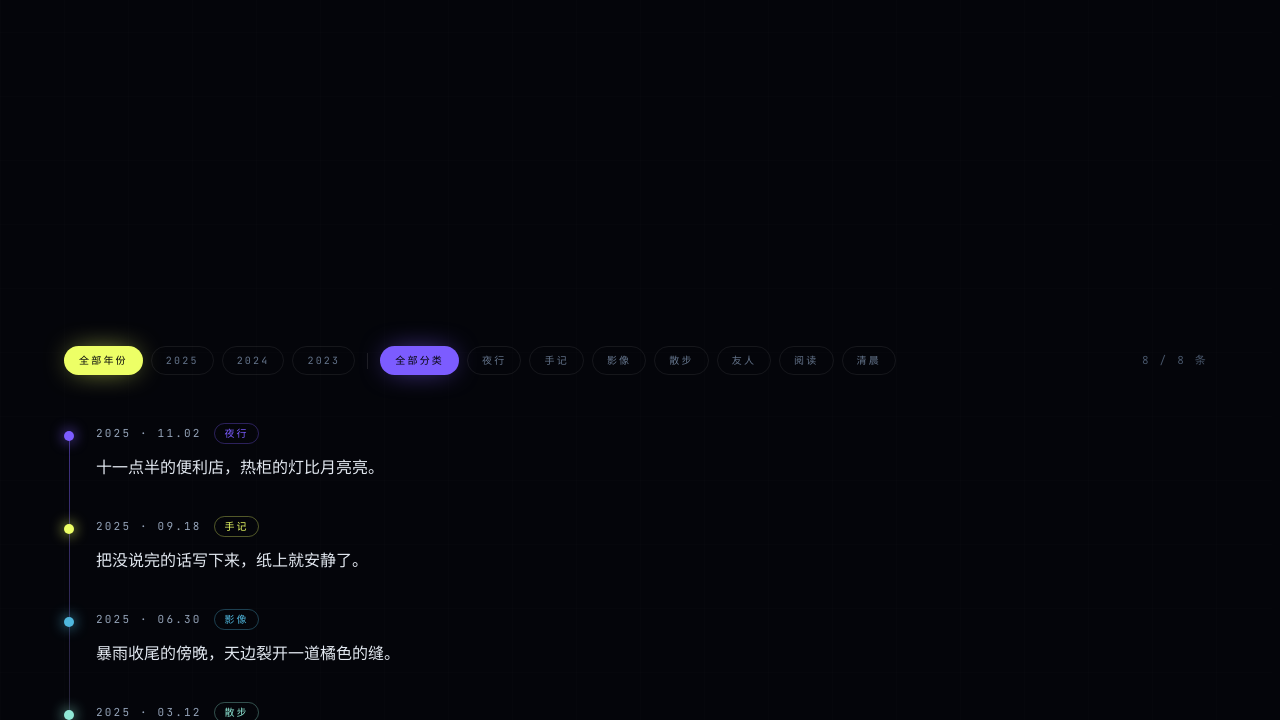
it: 神谕 · 页面 › 年份 / 分类筛选生效，可重置
(page scrolled)
Expected: the text "8 / 8 条" is shown, [1142,352,1208,369]
Click the button "2024" at (253, 361), box [222,346,284,375]
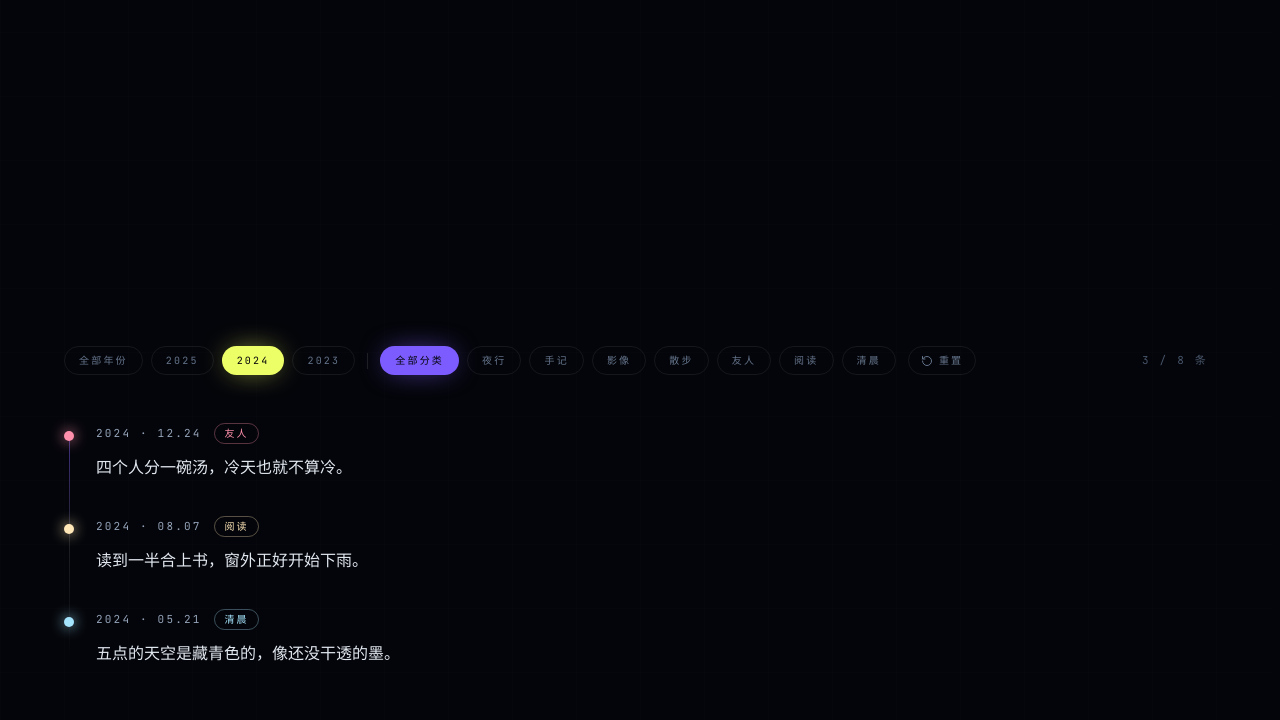
Expected: the text "四个人分一碗汤，冷天也就不算冷。" is shown, [96,459,352,476]
Expected: the text "3 / 8 条" is shown, [1142,352,1208,369]
Expected: the text "十一点半的便利店，热柜的灯比月亮亮。" is gone
Click the button "清晨" at (869, 361), box [842,346,896,375]
(page scrolled)
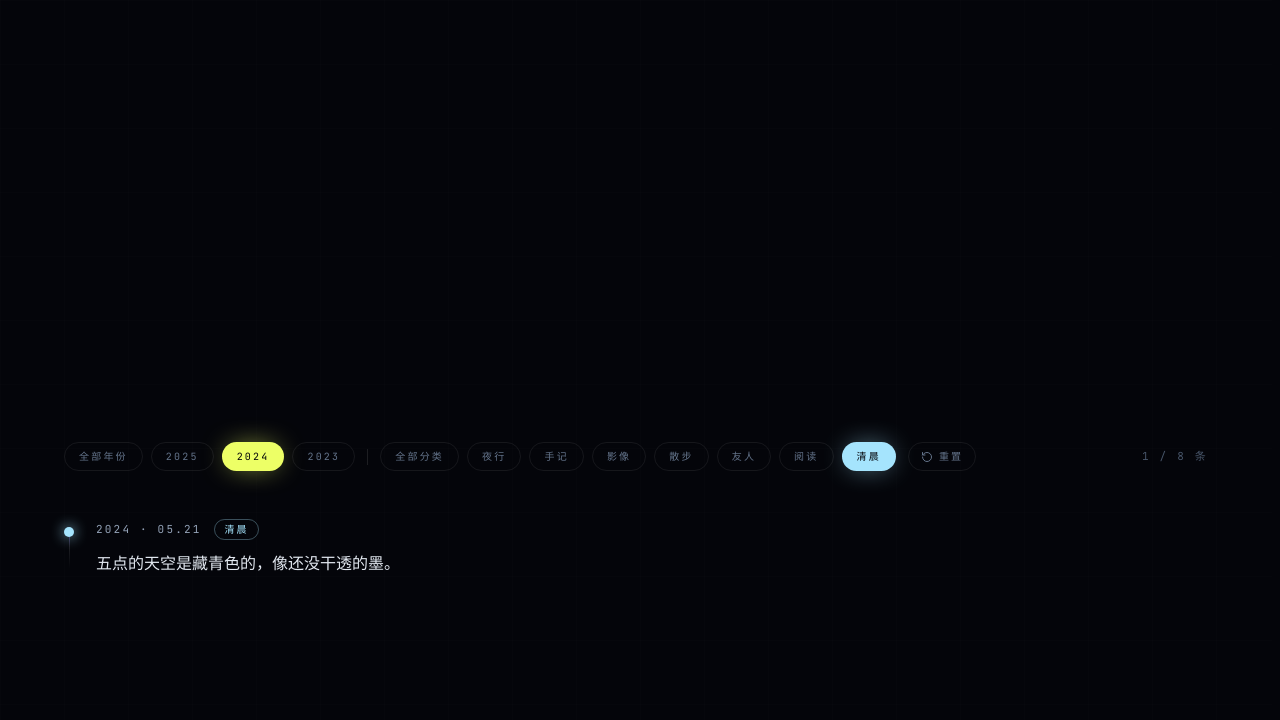
Expected: the text "1 / 8 条" is shown, [1142,448,1208,465]
Click the button "夜行" at (494, 457), box [467,442,522,471]
(page scrolled)
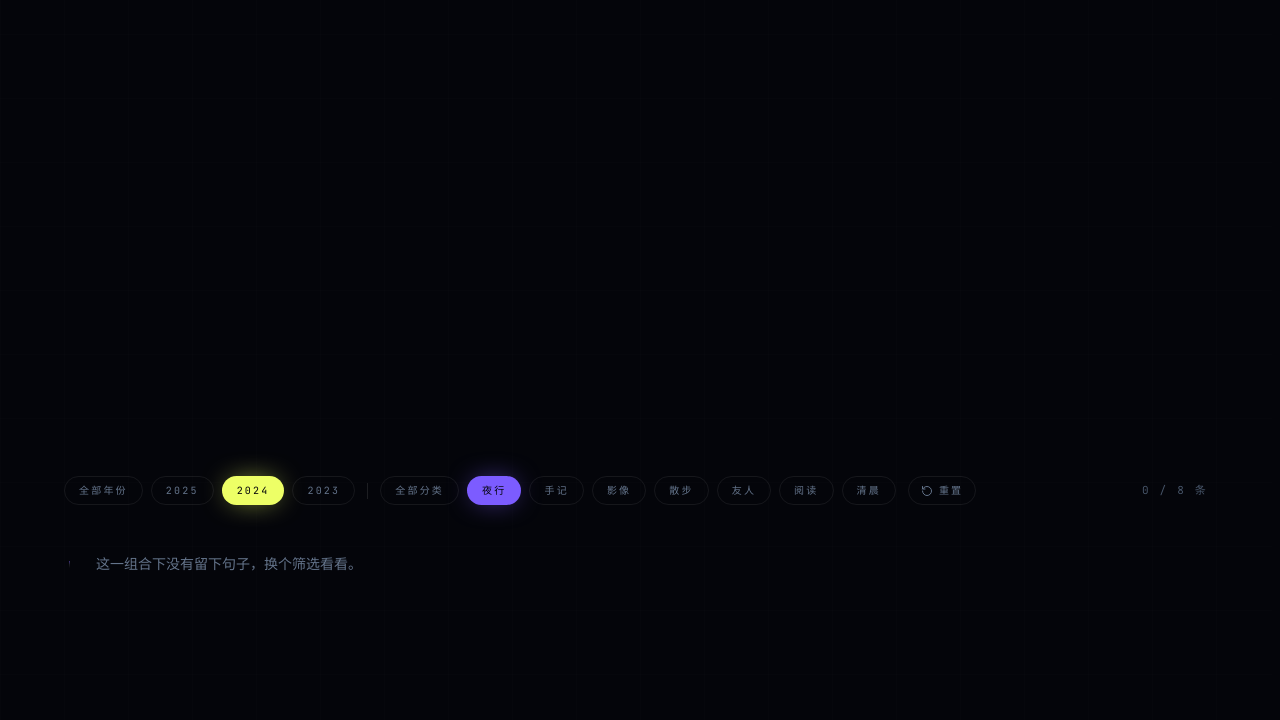
Expected: the text "0 / 8 条" is shown, [1142,482,1208,499]
Expected: the text "这一组合下没有留下句子，换个筛选看看。" is shown, [96,555,362,572]
Click the button "重置" at (942, 491), box [908,476,976,505]
(page scrolled)
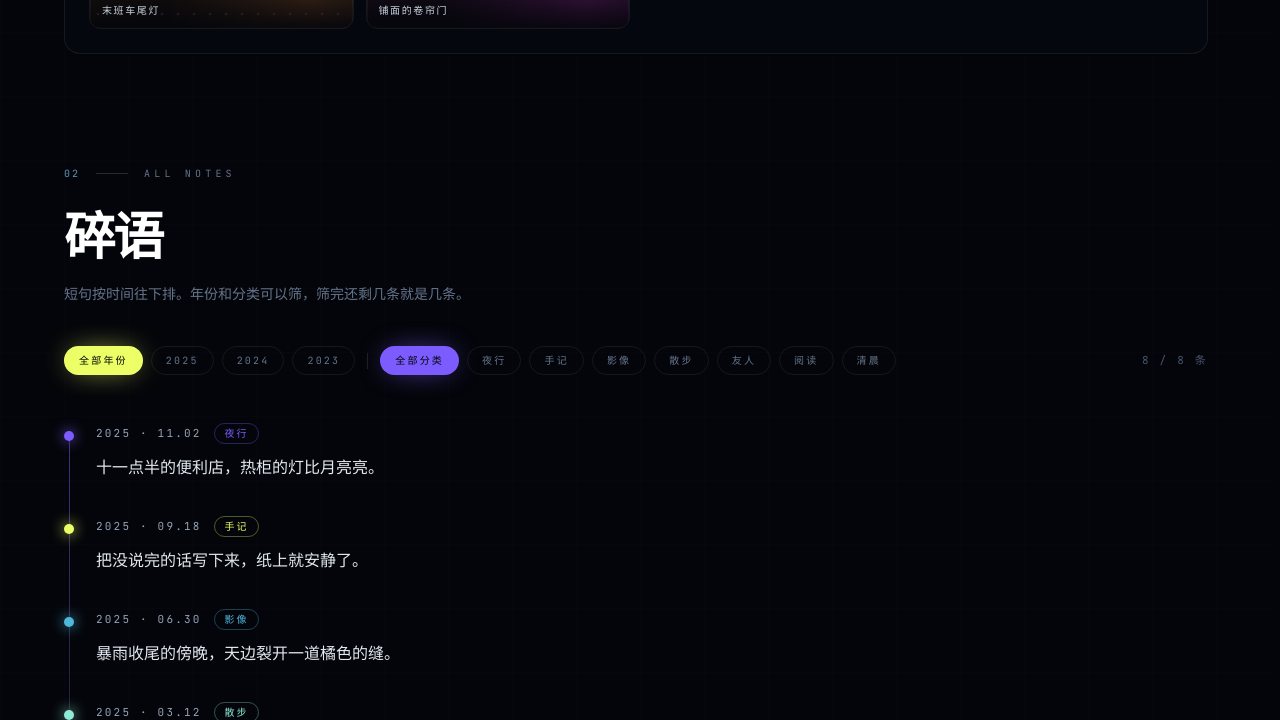
Expected: the text "8 / 8 条" is shown, [1142,352,1208,369]
